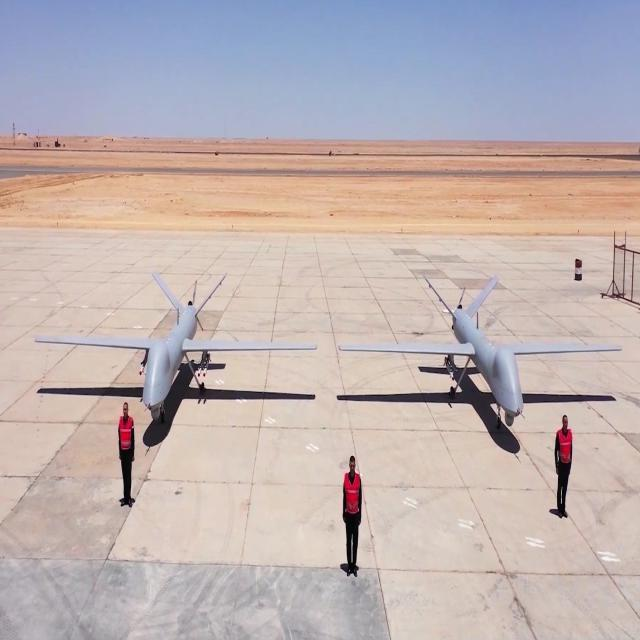iha: (333, 288, 625, 450)
